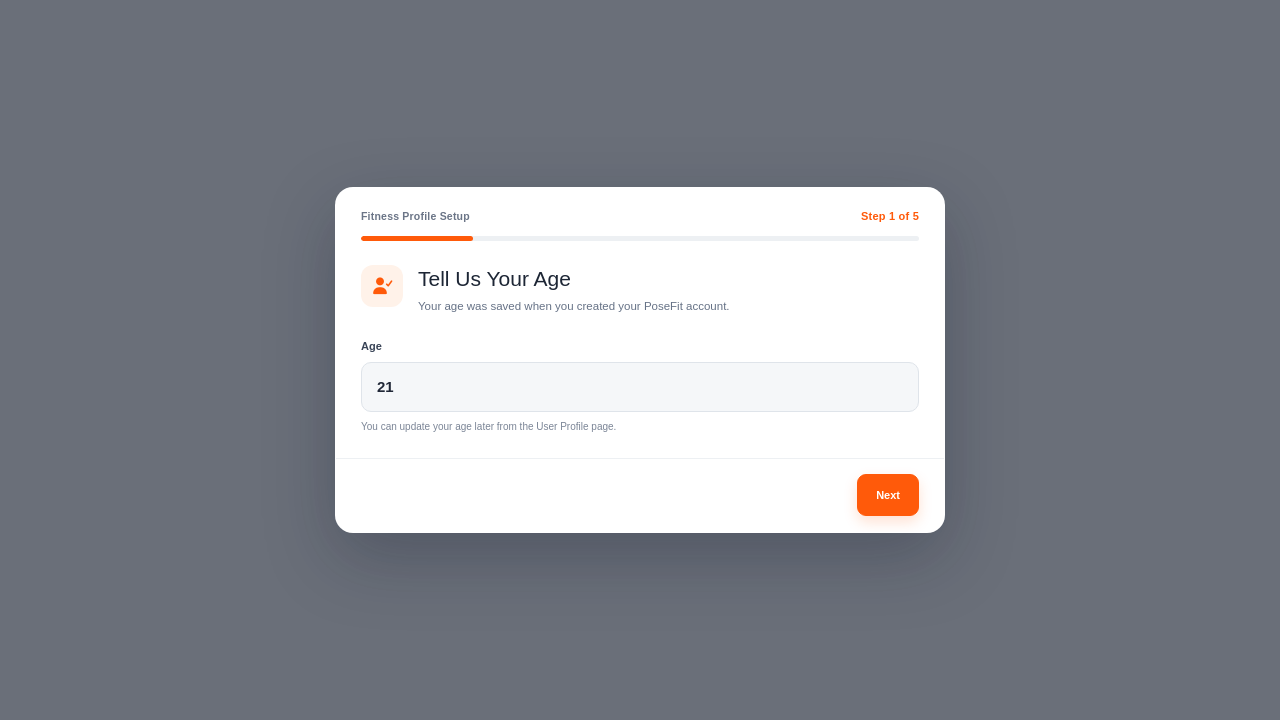
Test: requires a workout focus before advancing to physical limitations
Click the button "Next" at (888, 495), box [857, 474, 919, 516]
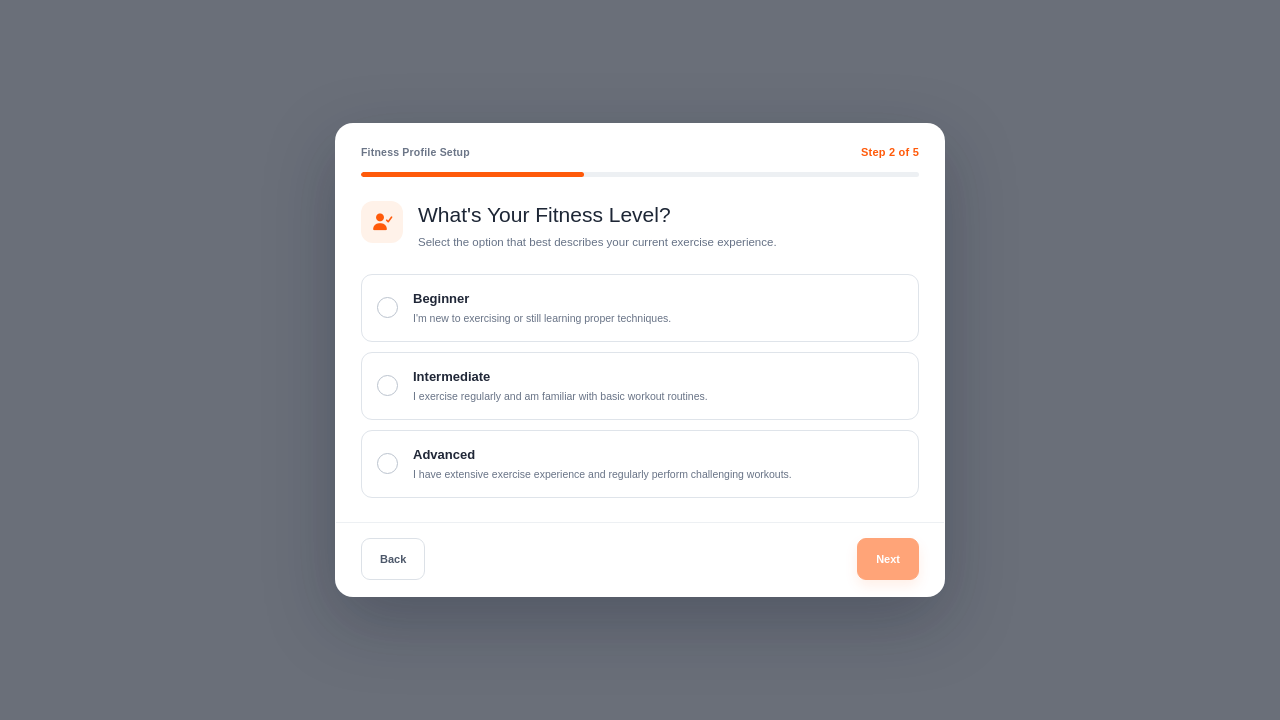
Click the radio button labelled "Beginner" at (441, 298), box [361, 274, 919, 342]
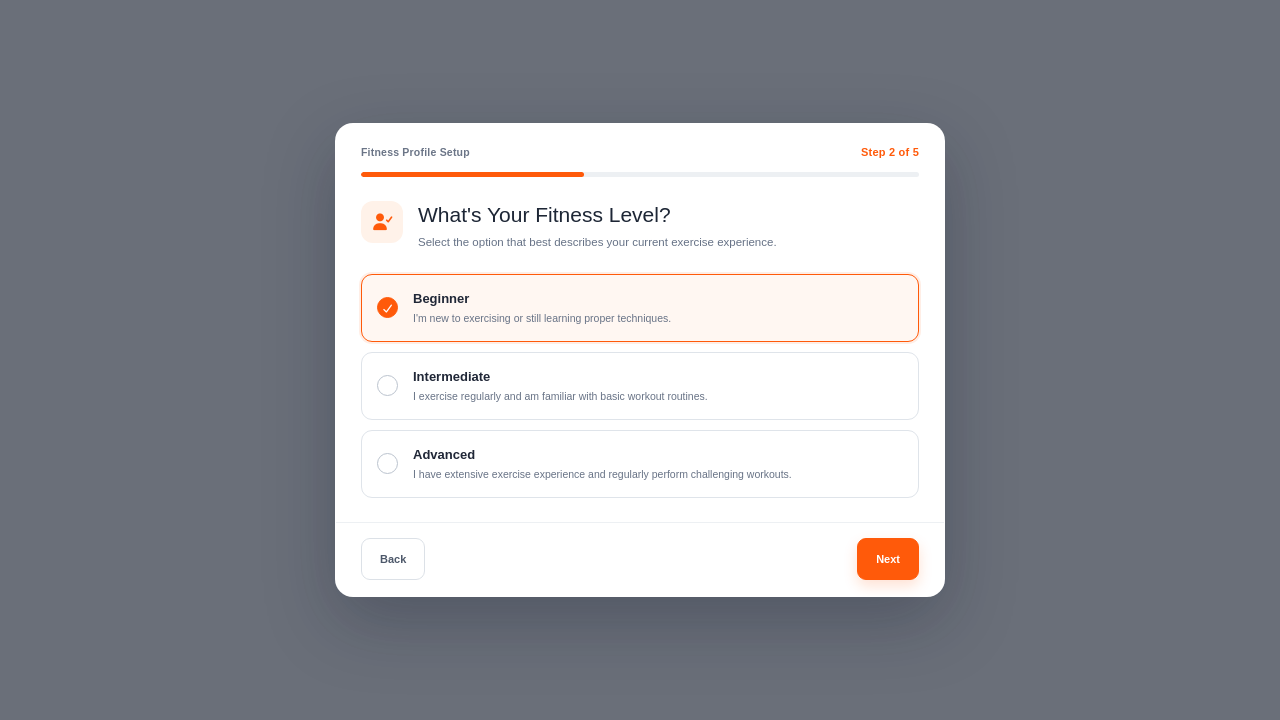
Click the button "Next" at (888, 559), box [857, 538, 919, 580]
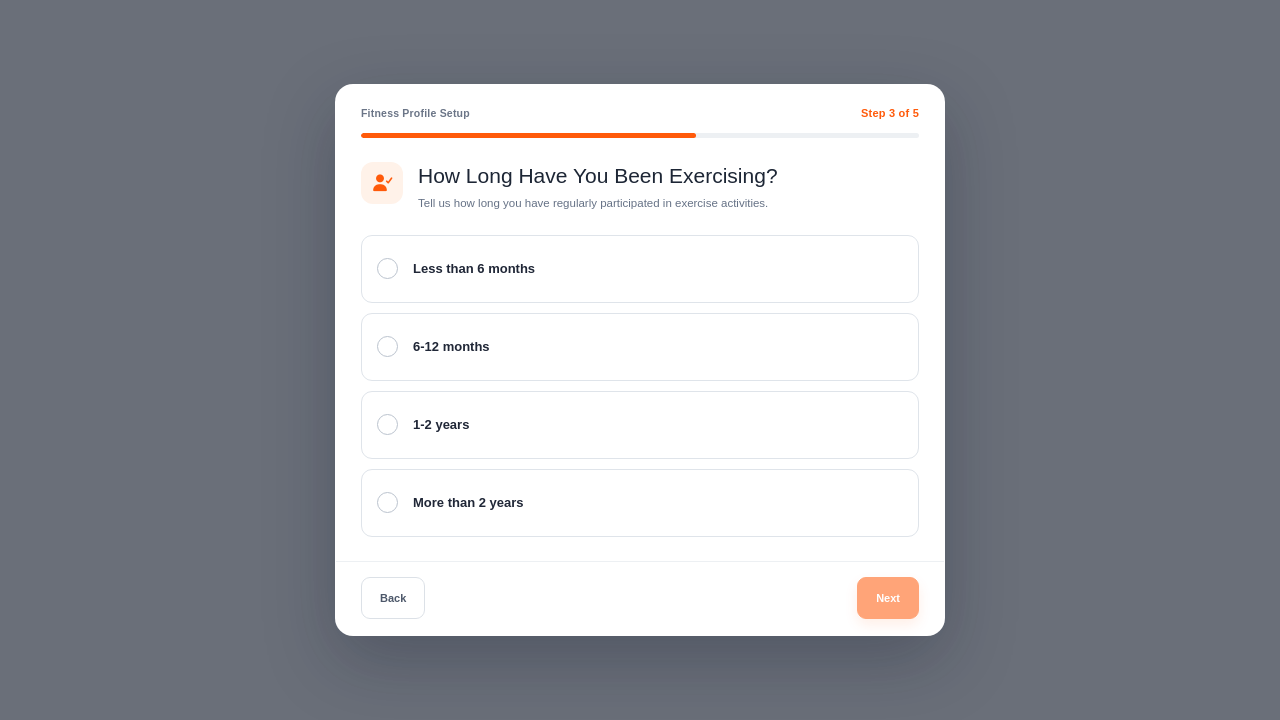
Click the radio button labelled "Less than 6 months" at (474, 269), box [361, 235, 919, 303]
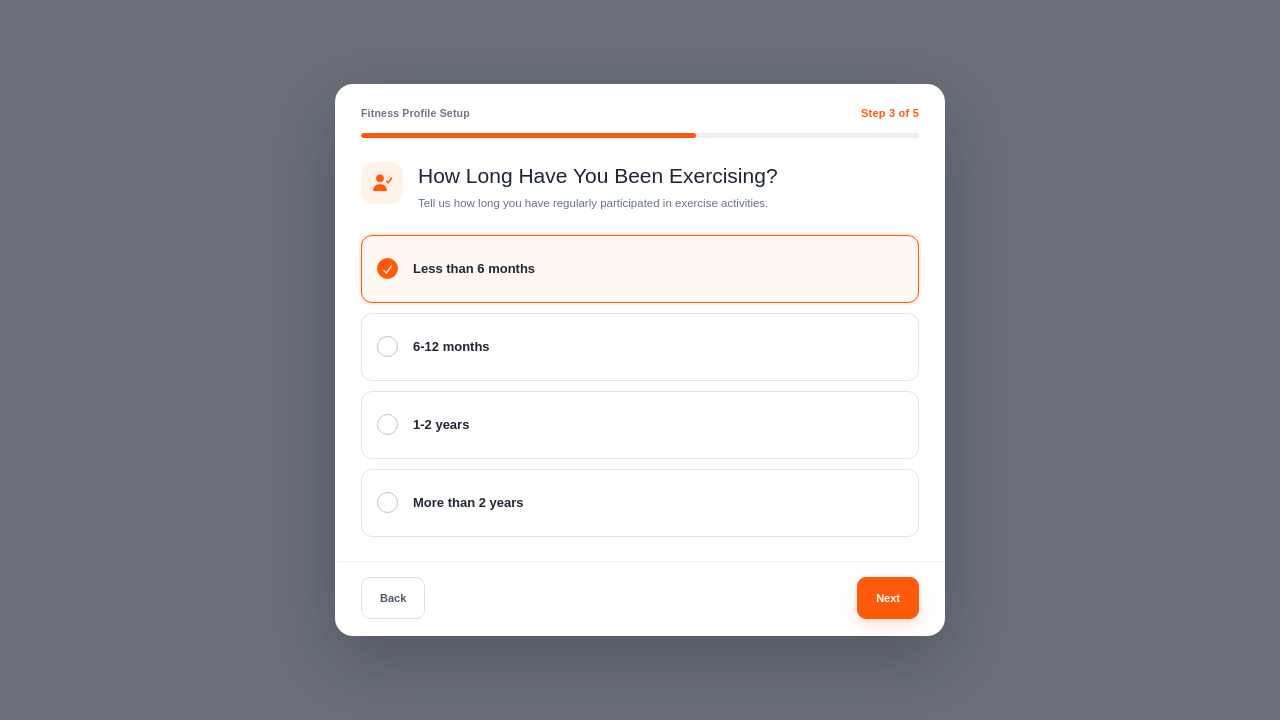
Click the button "Next" at (888, 598), box [857, 577, 919, 619]
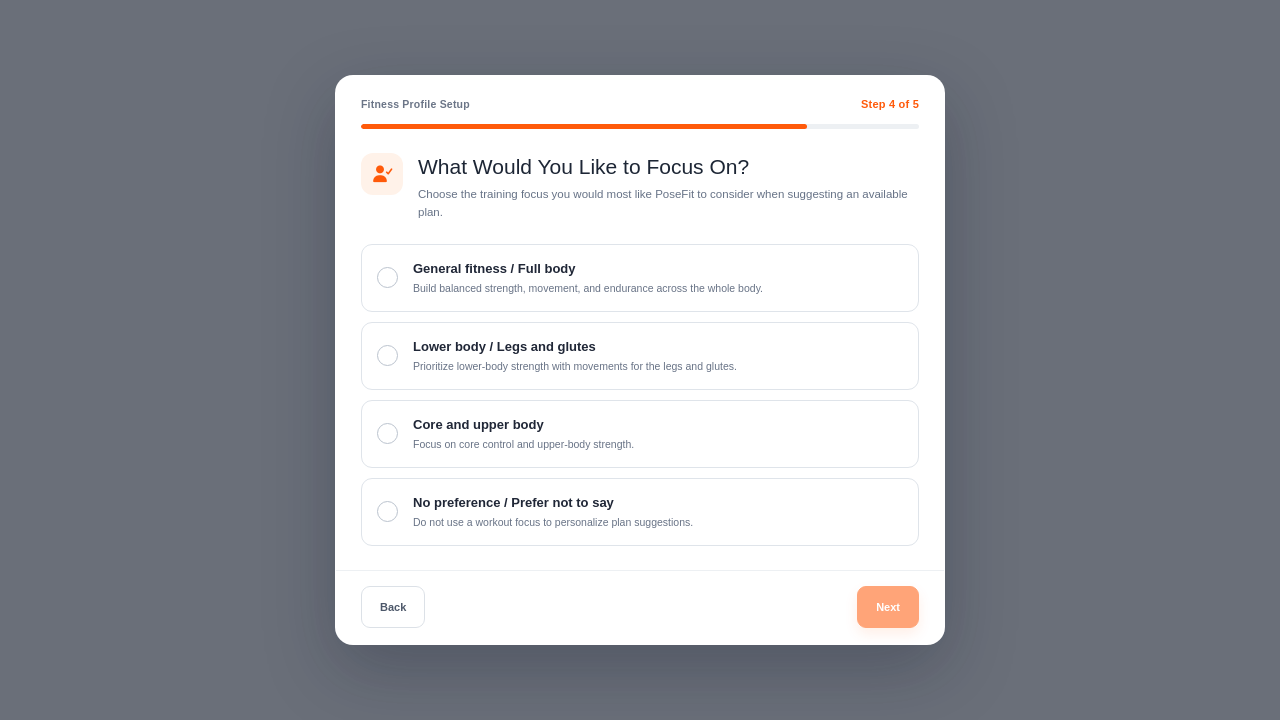
Expected: the heading "What Would You Like to Focus On?" is shown, [418, 155, 749, 178]
Expected: the button "Next" is disabled, [857, 586, 919, 628]
